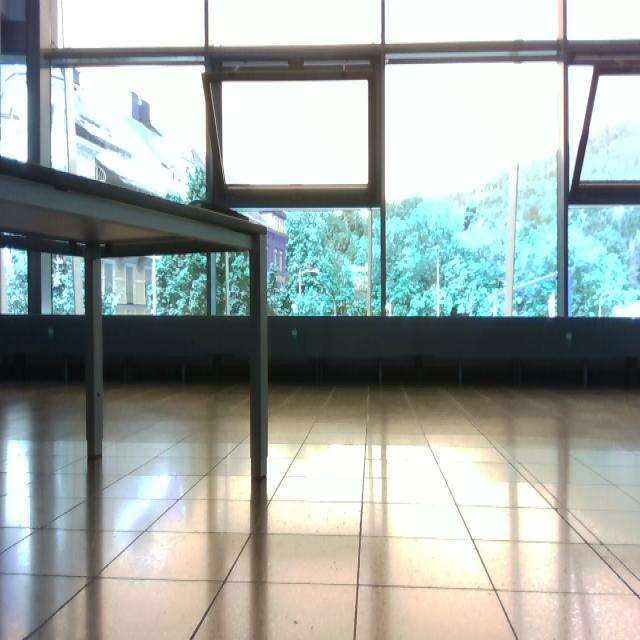door: (91, 248, 257, 478)
light bulb: (548, 293, 556, 317), (385, 302, 392, 316)
pillar: (85, 248, 104, 458)
tiled floor: (2, 380, 639, 638)
window: (1, 1, 640, 322), (384, 55, 562, 319)
